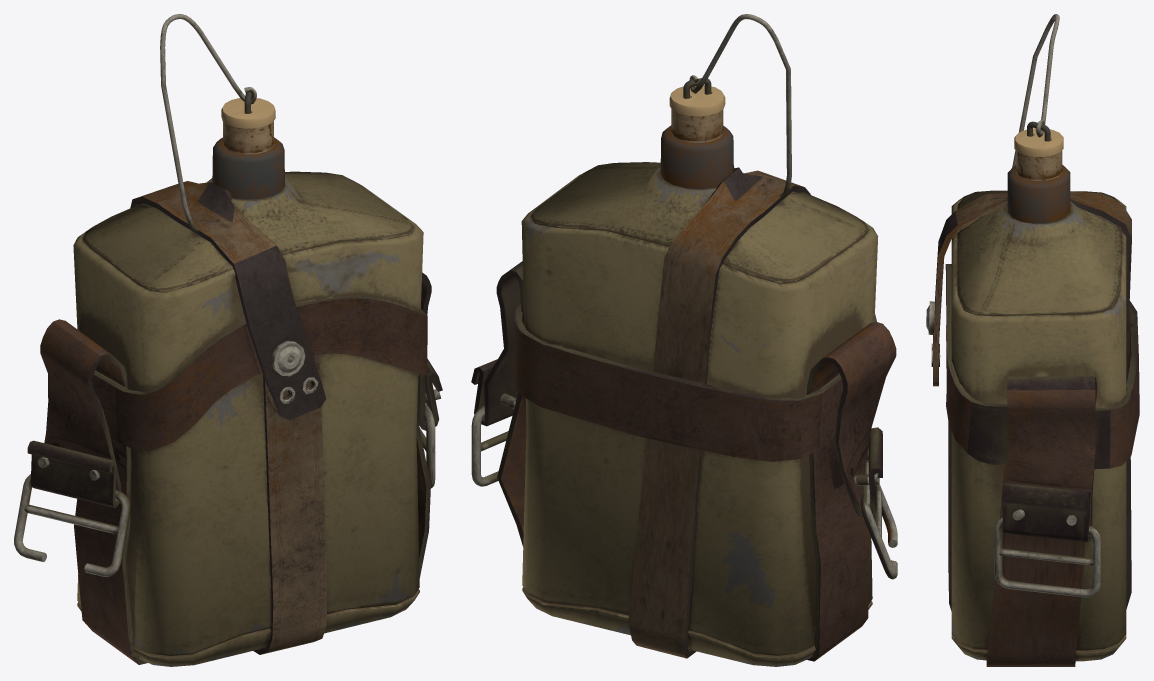
The model's file is Water_bottle.fbx.
3 renders of one model, left to right at view 1: azimuth 30°, elevation 25°; view 2: azimuth 150°, elevation 25°; view 3: azimuth 270°, elevation 25°, orthographic. The views are drawn at different scales.
Visible parts, largest first — view 1: WaterBottle; view 2: WaterBottle; view 3: WaterBottle.
Part boxes in pixels (x1,y1,x2,y2): WaterBottle: (14, 14, 442, 666); WaterBottle: (471, 14, 897, 666); WaterBottle: (926, 14, 1139, 666).
Bounding box in the file's own units: 29.85 × 42.83 × 14.61.
Materials: 2 (2 with a texture image).
